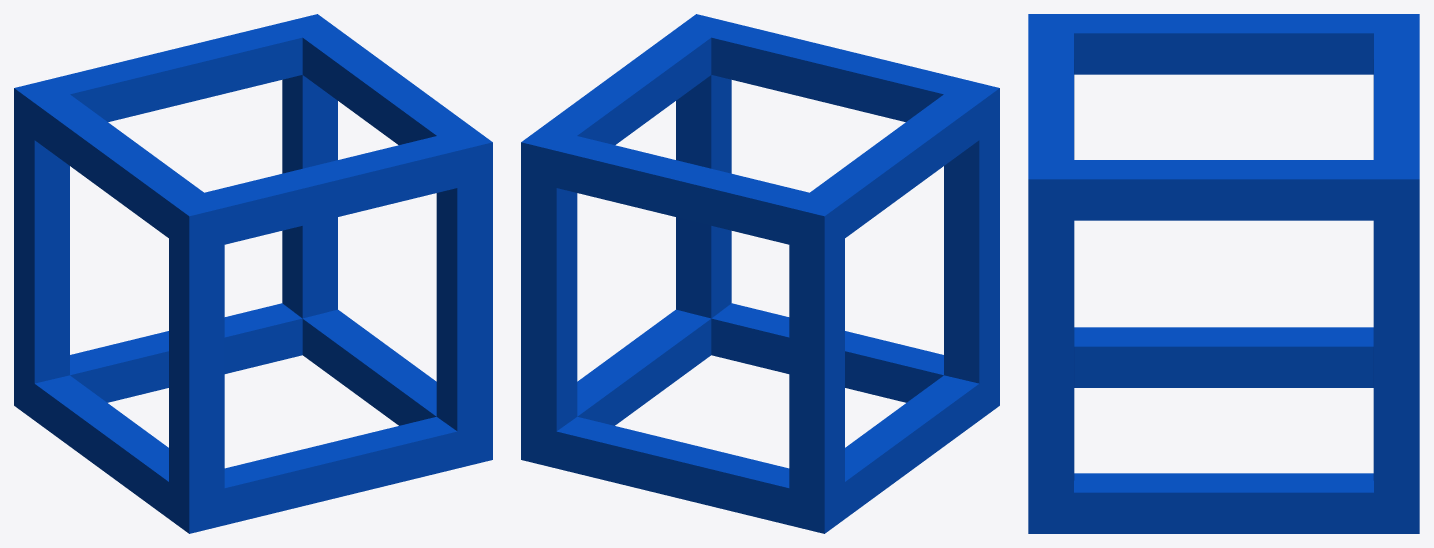
File: MightyCube.FBX
The picture shows the model from 3 angles, left to right: view 1: azimuth 30°, elevation 25°; view 2: azimuth 150°, elevation 25°; view 3: azimuth 270°, elevation 25°; orthographic projection. The views are drawn at different scales.
Visible parts, largest first — view 1: MightyCube; view 2: MightyCube; view 3: MightyCube.
Boxes of the visible parts, x1,y1,x2,y2 form: MightyCube: [14, 14, 492, 533]; MightyCube: [521, 14, 999, 533]; MightyCube: [1028, 14, 1419, 533].
Size of the model in its own units: 0.6 by 0.6 by 0.6.
